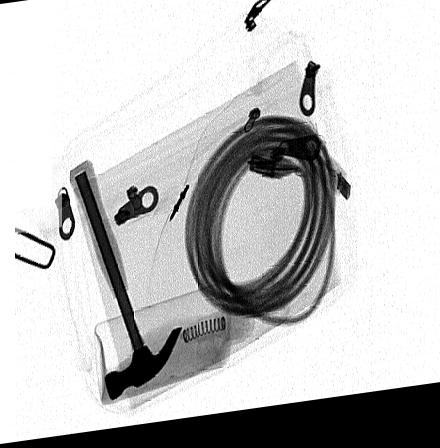Hammer: (68, 161, 182, 404)
